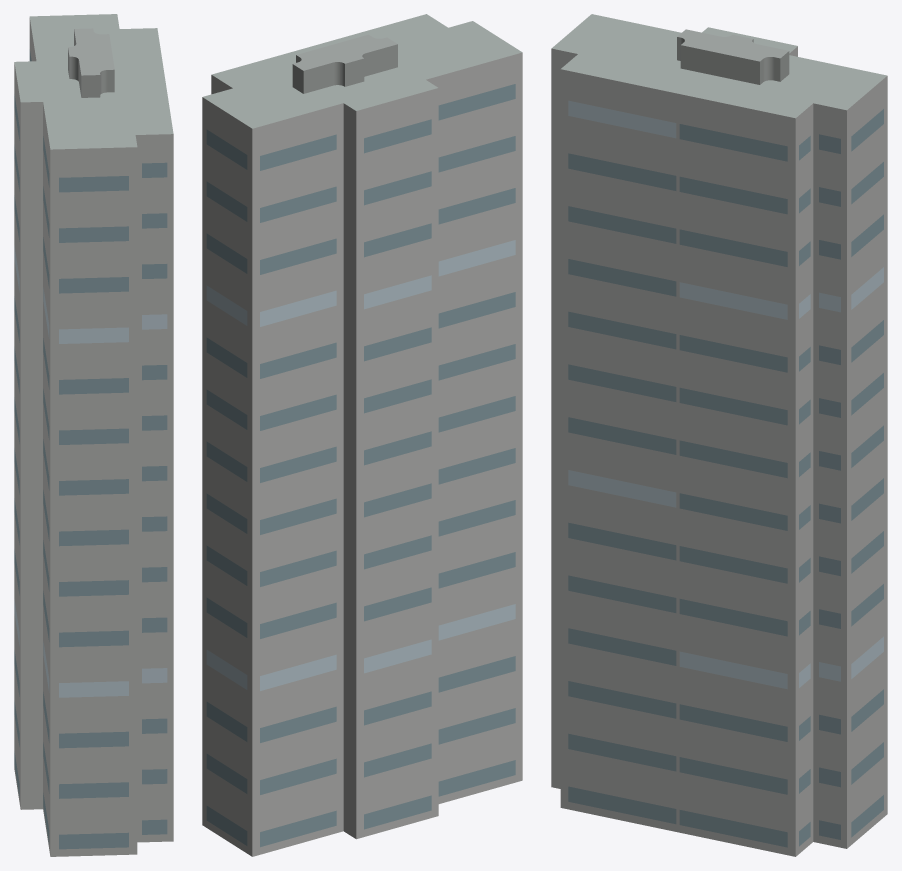
File: fallback-banpo-xi-141.glb
3 renders of one model, left to right at view 1: azimuth 30°, elevation 25°; view 2: azimuth 150°, elevation 25°; view 3: azimuth 270°, elevation 25°, orthographic. The views are drawn at different scales.
Parts seen in each view (by area): view 1: fallback-banpo-xi-141; view 2: fallback-banpo-xi-141; view 3: fallback-banpo-xi-141.
Part boxes in pixels (x1,y1,x2,y2): fallback-banpo-xi-141: [14, 14, 173, 856]; fallback-banpo-xi-141: [202, 14, 522, 856]; fallback-banpo-xi-141: [551, 14, 887, 856].
Size of the model in its own units: 22.9 by 78 by 31.18.
